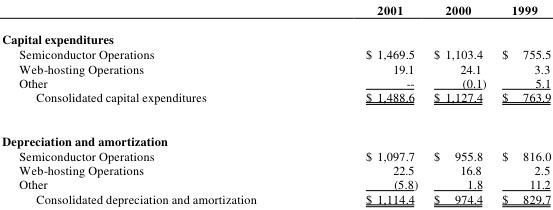table: (1, 1, 550, 206)
table column: (1, 1, 310, 206), (310, 1, 425, 206), (425, 1, 493, 206), (493, 1, 550, 206)
table column header: (1, 1, 550, 24)
table projected row header: (1, 118, 550, 147), (1, 24, 550, 46)
table row: (1, 89, 550, 118), (1, 118, 550, 147), (1, 1, 550, 24), (1, 24, 550, 46), (1, 60, 550, 75), (1, 147, 550, 162), (1, 176, 550, 191), (1, 191, 550, 206), (1, 46, 550, 60), (1, 75, 550, 89), (1, 162, 550, 176)
